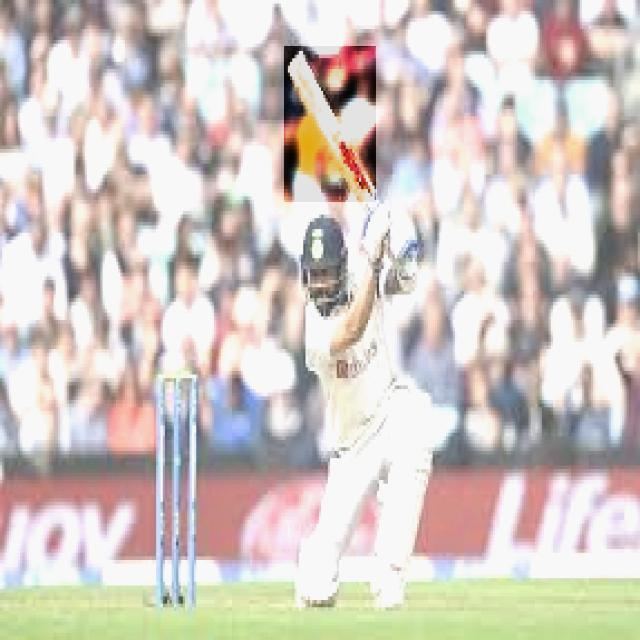bat: (286, 46, 379, 204)
